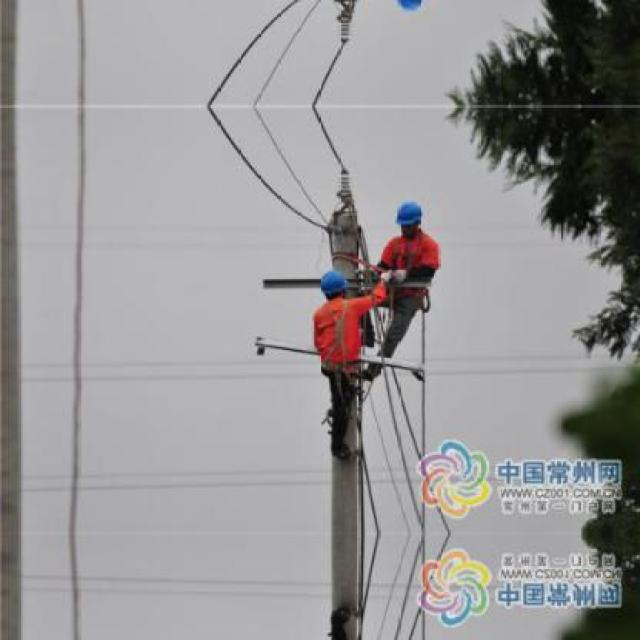helmet: (392, 198, 426, 242), (316, 264, 352, 304), (392, 0, 427, 15)
